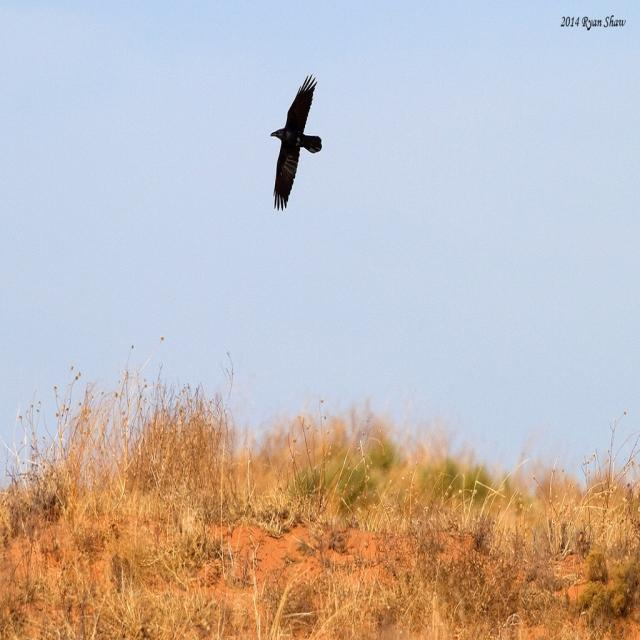bird: (266, 76, 322, 217)
